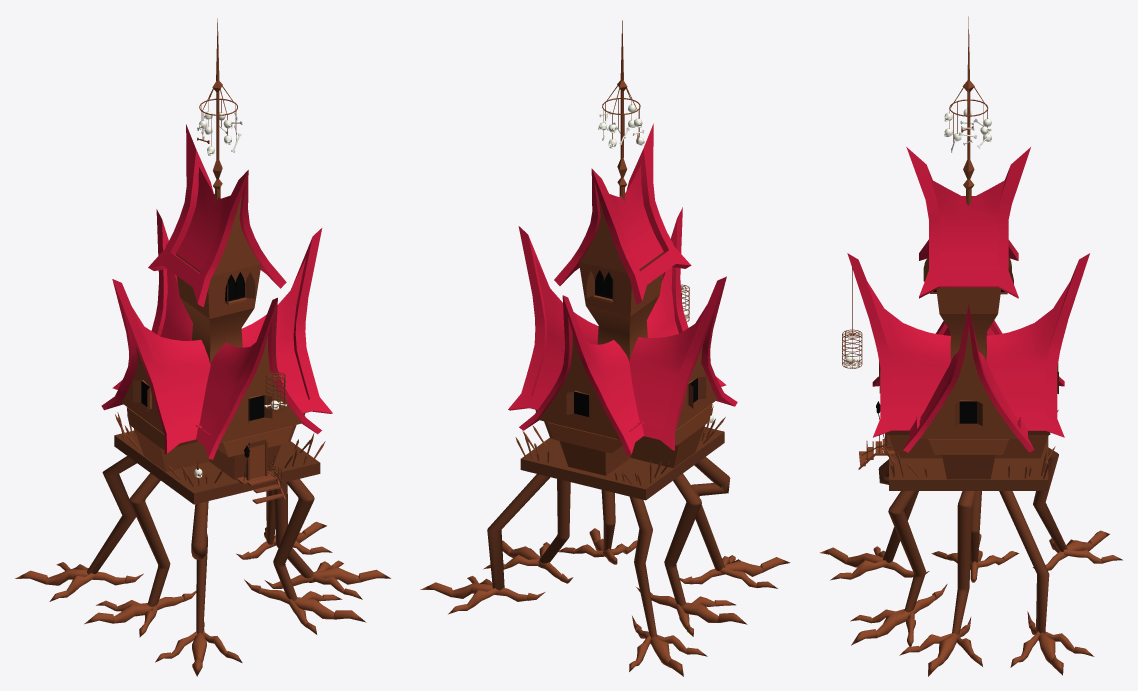
3 renders of one model, left to right at view 1: azimuth 30°, elevation 25°; view 2: azimuth 150°, elevation 25°; view 3: azimuth 270°, elevation 25°, orthographic.
Visible parts, largest first — view 1: pCylinder91; view 2: pCylinder91; view 3: pCylinder91.
Part boxes in pixels (x1,y1,x2,y2): pCylinder91: (15, 18, 390, 676); pCylinder91: (420, 20, 790, 676); pCylinder91: (820, 16, 1122, 676).
Size of the model in its own units: 27.29 by 53.04 by 24.81.
